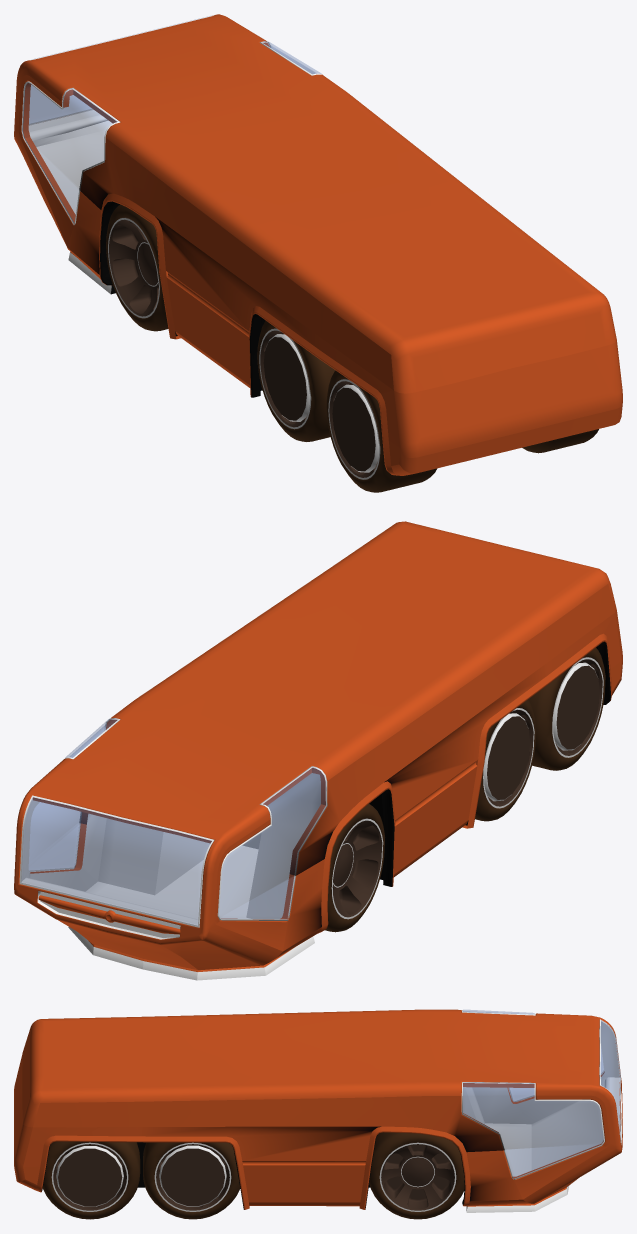
3 views of the same model, one above another, from view 1: azimuth 30°, elevation 25°; view 2: azimuth 150°, elevation 25°; view 3: azimuth 270°, elevation 25° (orthographic). The views are drawn at different scales.
Visible parts, largest first — view 1: hull, Cylinder_001, windows; view 2: hull, windows, Cylinder_001; view 3: hull, Cylinder_001, windows.
Boxes of the visible parts, x1=… form: hull: x1=14, y1=14, x2=622, y2=475; Cylinder_001: x1=106, y1=204, x2=598, y2=492; windows: x1=21, y1=15, x2=322, y2=224; hull: x1=14, y1=521, x2=622, y2=980; windows: x1=19, y1=718, x2=327, y2=927; Cylinder_001: x1=325, y1=648, x2=605, y2=932; hull: x1=14, y1=1009, x2=622, y2=1212; Cylinder_001: x1=43, y1=1132, x2=464, y2=1219; windows: x1=462, y1=1010, x2=620, y2=1179.
Bounding box in the file's own units: 2.07 × 1.53 × 6.24.
